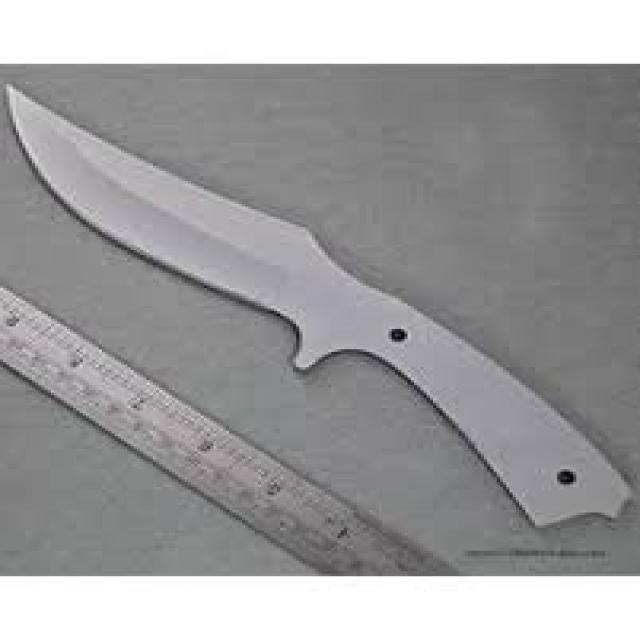knives: (1, 71, 596, 422)
